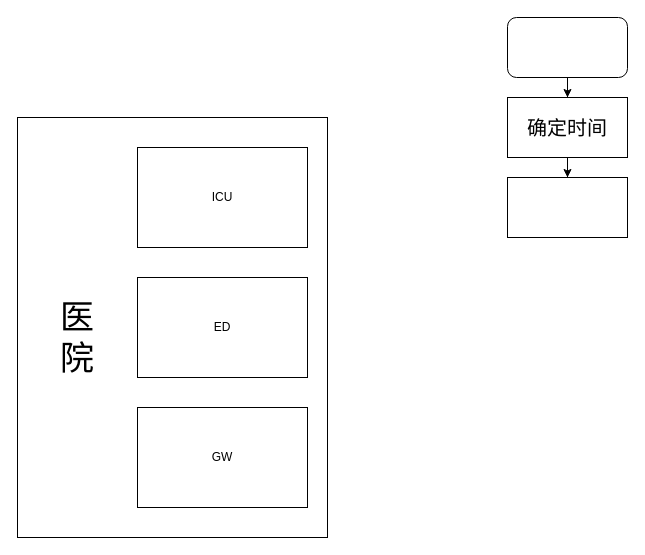
Image size: 645x555. Some labels were removed from this diagram. The shapes that lost their labels are listed below. From the top down, each one's centre as x and y in pixels, then its label:
At point 567,47: "start".
At point 567,207: "将患者送入ED序列".
